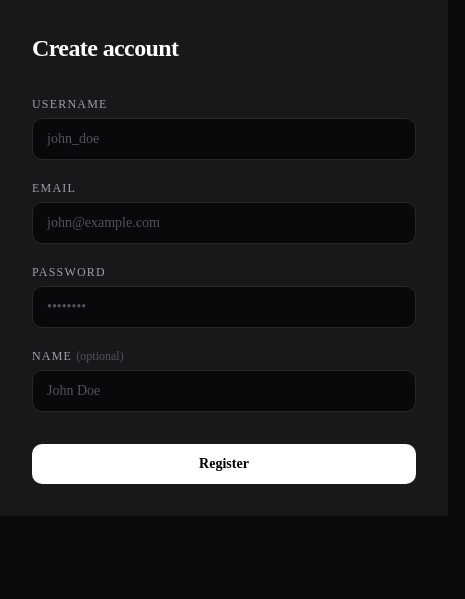
Test: SignUp › names every missing required field
Click the button. click: (224, 464)
box: left=32, top=444, right=416, bottom=484
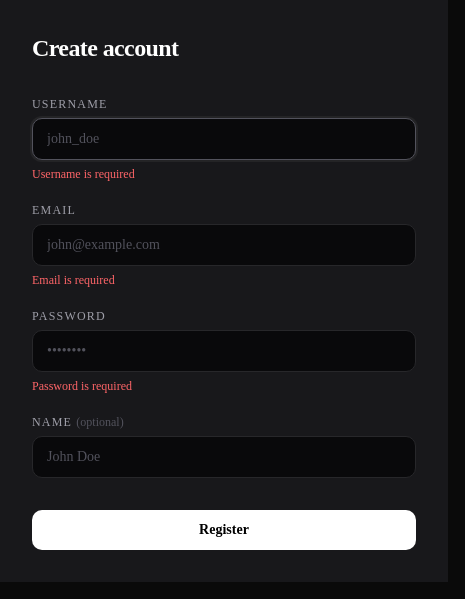
Check: the text "Username is required" is shown, box left=32, top=167, right=135, bottom=181
Check: the text "Email is required" is shown, box left=32, top=273, right=115, bottom=287
Check: the text "Password is required" is shown, box left=32, top=379, right=132, bottom=393
